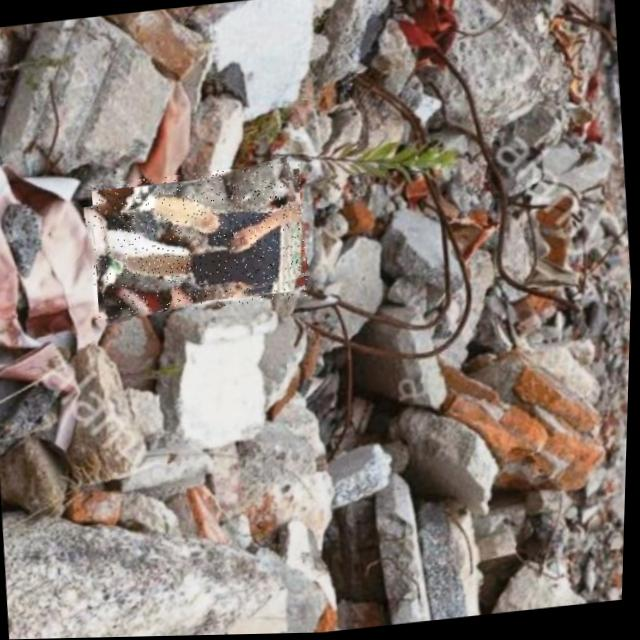Person in Rubble: (83, 163, 311, 320)
